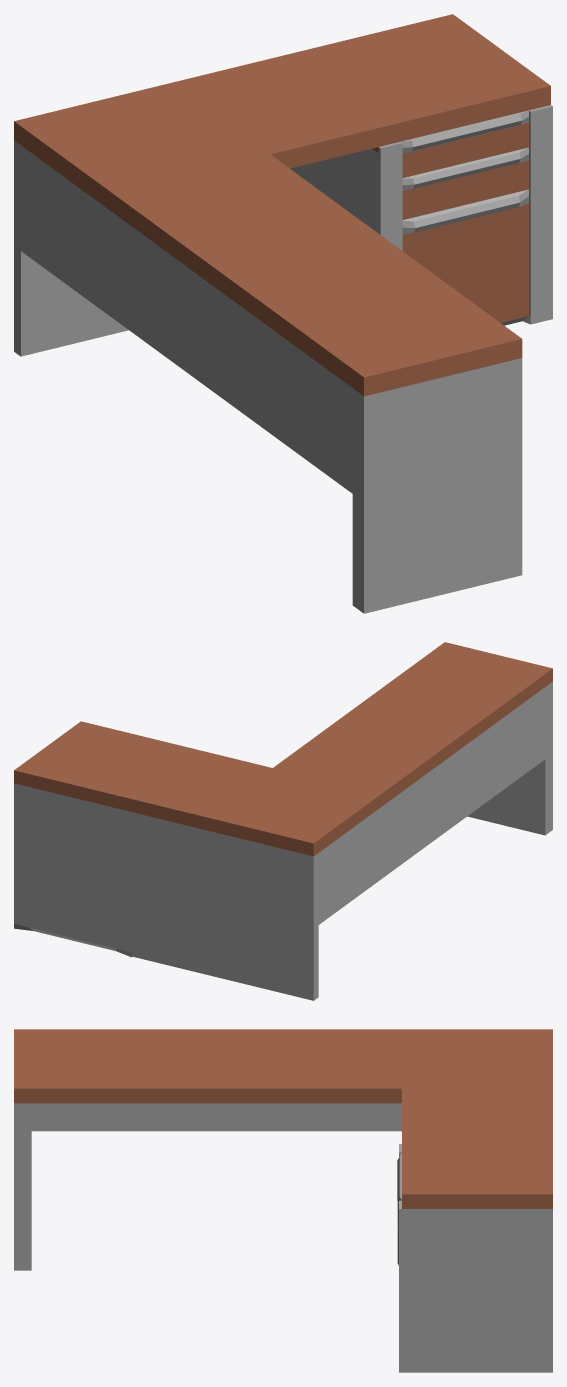
Rendered from Desk.fbx.
3 renders of one model, top to bottom at view 1: azimuth 30°, elevation 25°; view 2: azimuth 150°, elevation 25°; view 3: azimuth 270°, elevation 25°, orthographic. The views are drawn at different scales.
Visible parts, largest first — view 1: Desk; view 2: Desk; view 3: Desk.
Part boxes in pixels (x1,y1,x2,y2): Desk: (14, 14, 552, 613); Desk: (14, 642, 552, 1000); Desk: (14, 1029, 552, 1372).
Size of the model in its own units: 843 by 434 by 1165.
